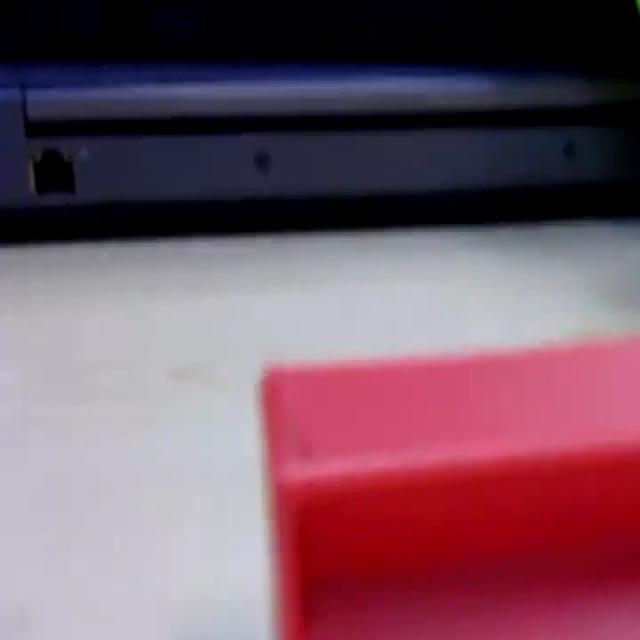red_block: (257, 332, 638, 637)
